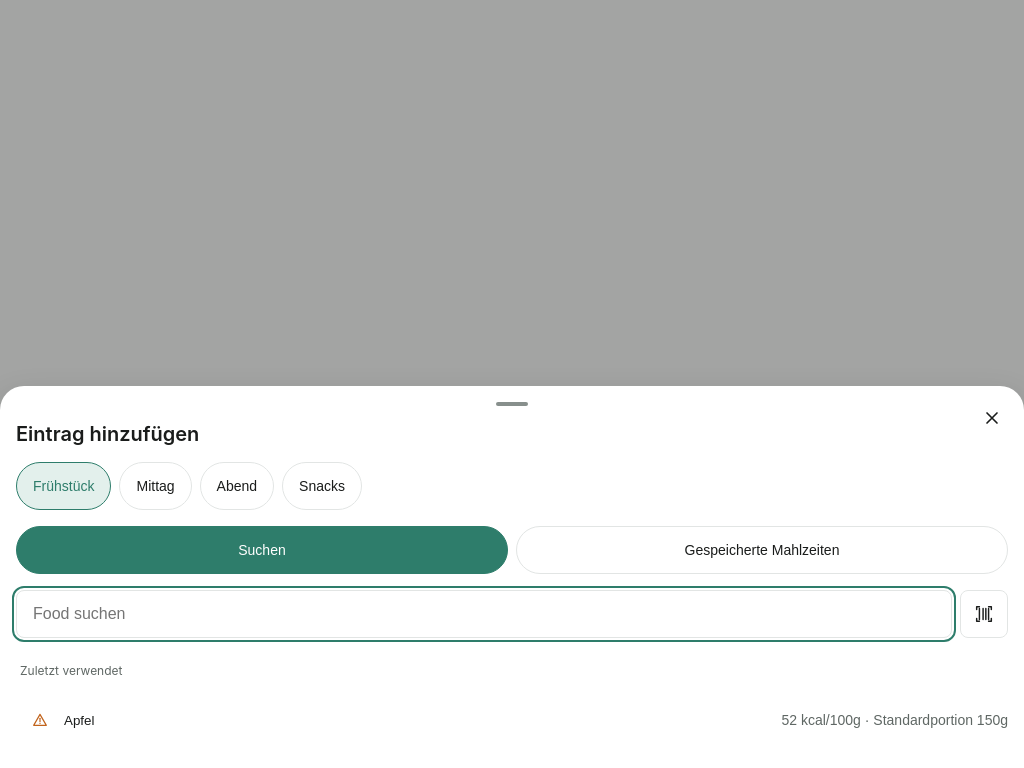
Test: FoodEntrySheetComponent › tapping a result row selects the food and switches to Step B
Click the button with class "result-row" at (131, 719), box [64,696,1008,744]
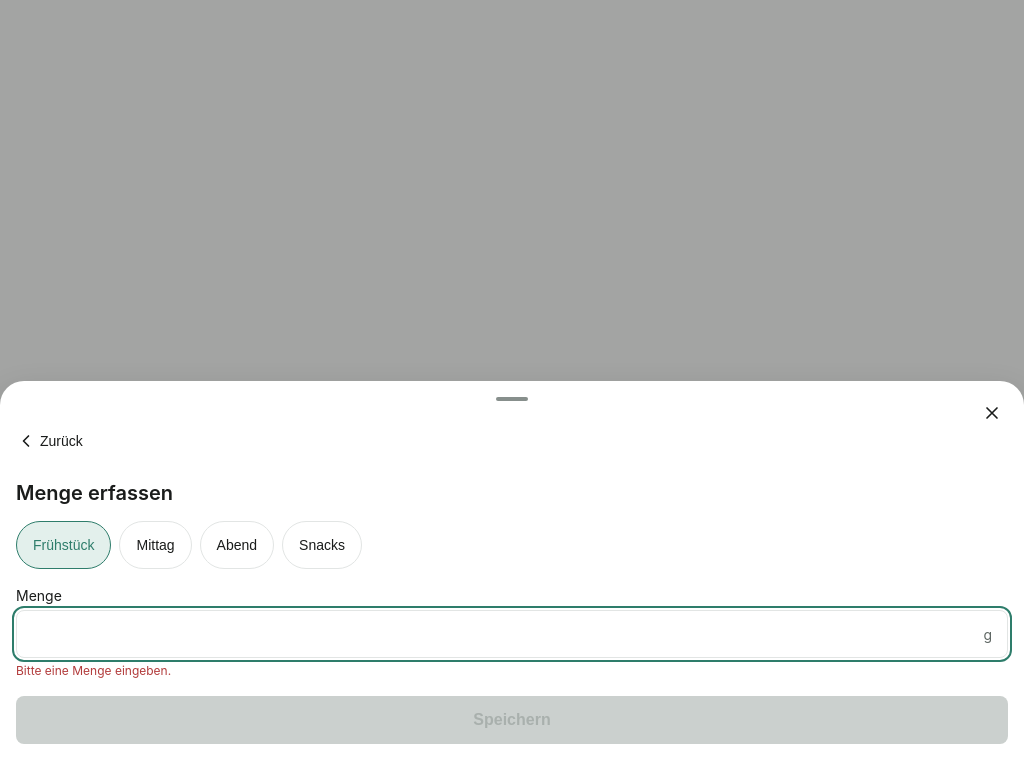
Expected: the form with class "amount-form" is shown, [16,585,1008,744]
